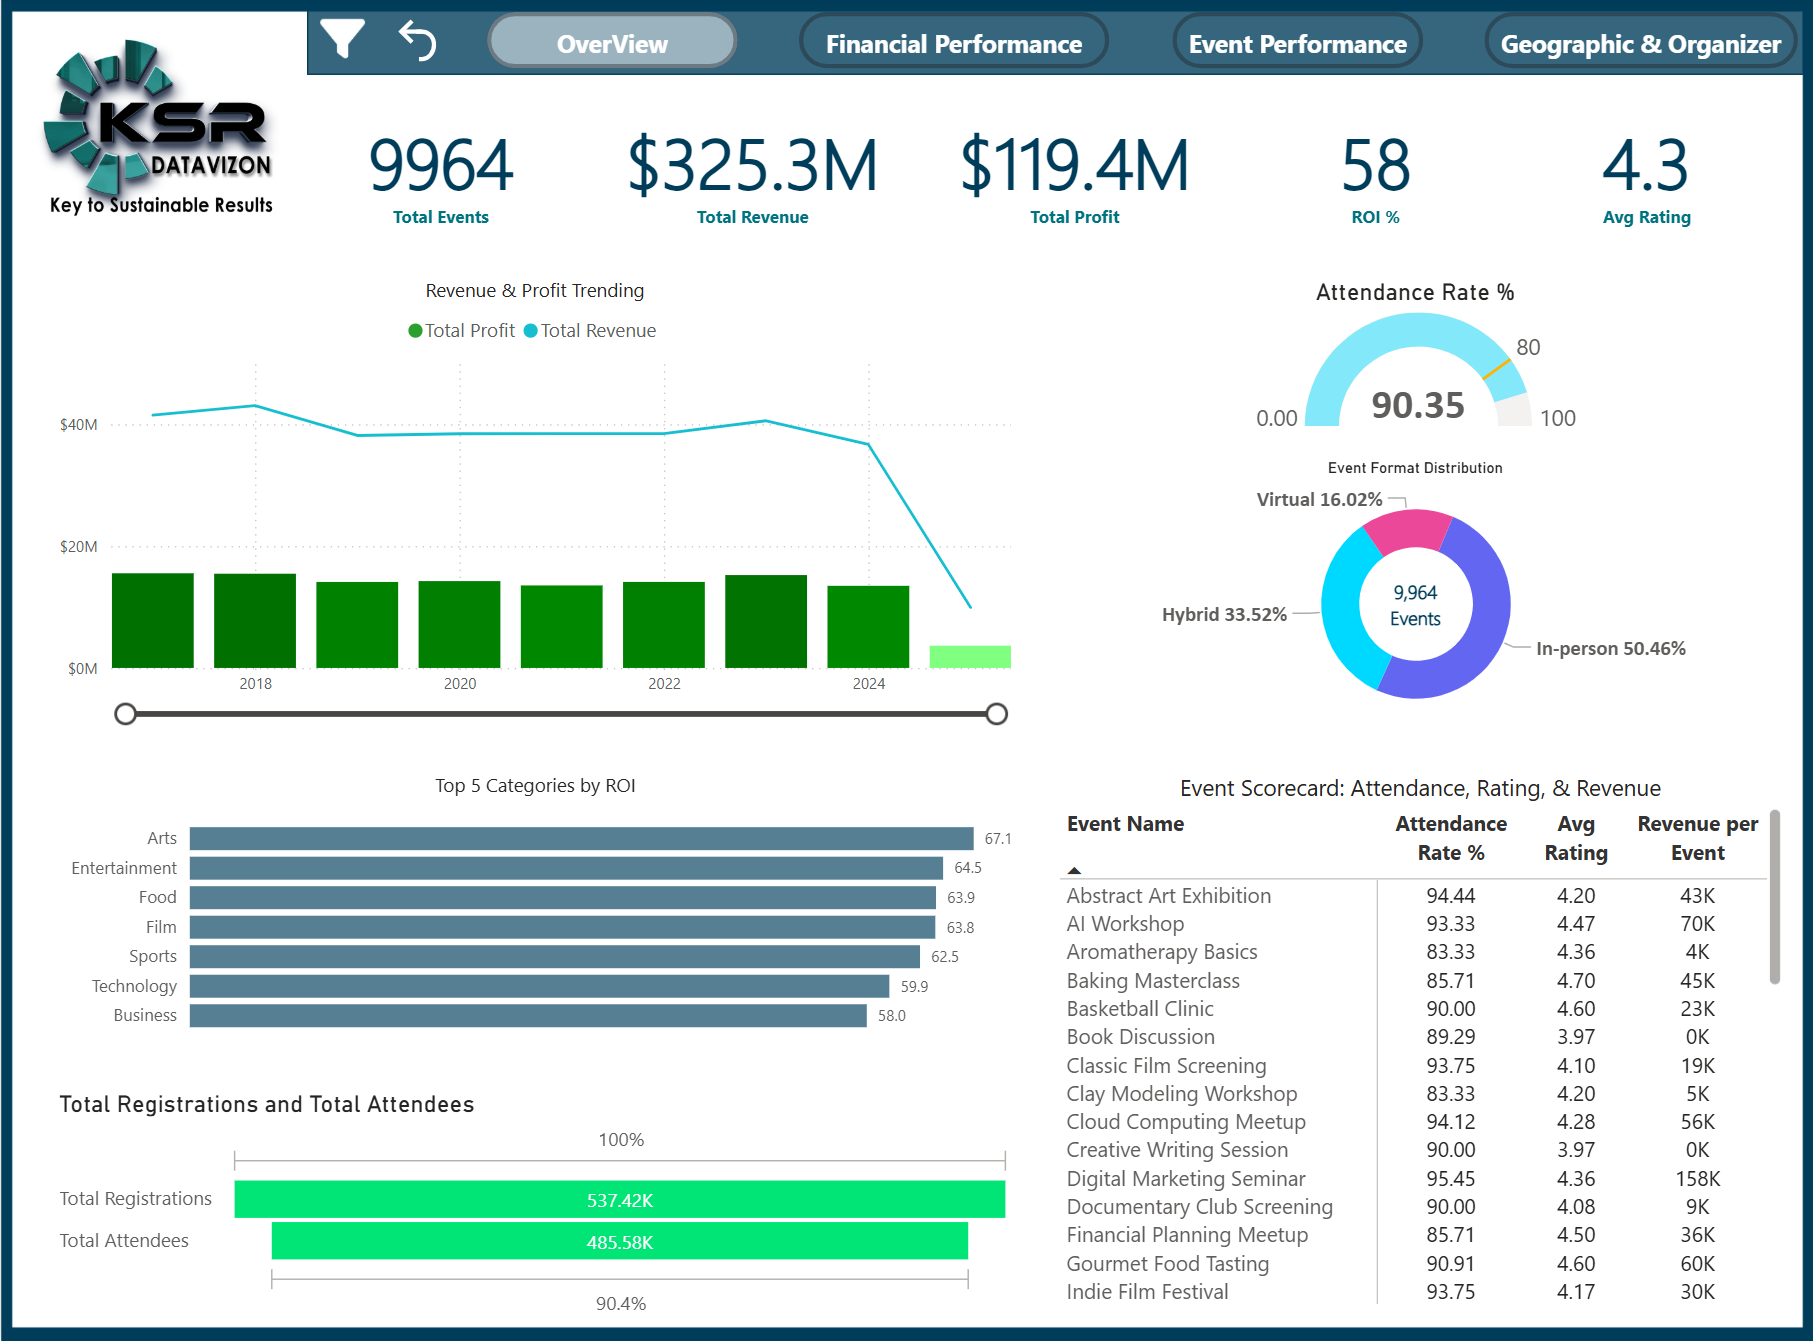

The page's visual inventory and layout, read from the dashboard file:
{"tool":"powerbi","page":{"name":"Portfolio Overview","canvas":[1280,950],"ordinal":0},"visuals":[{"type":"image","box":[7.9,6.8,208.9,170.3],"z":0},{"type":"shape","box":[215.6,6.3,1057.5,48.7],"z":1000},{"type":"card","fields":{"Values":["Measure Table.Total Events"]},"box":[217.6,67.6,186.4,110],"z":2000},{"type":"actionButton","title":"Filter","box":[222,9.9,46.9,39.7],"z":3000},{"type":"card","fields":{"Values":["Measure Table.Total Revenue"]},"box":[431.8,67.6,196.8,110],"z":4000},{"type":"card","fields":{"Values":["Measure Table.Total Profit"]},"box":[656.4,67.6,202.6,110],"z":5000},{"type":"card","fields":{"Values":["Measure Table.ROI %"]},"box":[886.8,67.6,167.9,110],"z":6000},{"type":"actionButton","box":[274.7,10.2,42.5,39.8],"z":7000},{"type":"actionButton","box":[342.9,11.1,177.1,39.7],"z":8000},{"type":"actionButton","box":[564,11.1,219.1,39.7],"z":9000},{"type":"actionButton","box":[827,11.1,177.1,39.7],"z":10000},{"type":"lineStackedColumnComboChart","title":"Revenue & Profit Trending","fields":{"Y":["Measure Table.Total Profit"],"Y2":["Measure Table.Total Revenue"],"Category":["AW_Calender.Start of Month.Variation.Date Hierarchy.Year","AW_Calender.Start of Month.Variation.Date Hierarchy.Month"]},"box":[36.2,197.5,682.4,320.5],"z":11000},{"type":"gauge","title":"Attendance Rate %","fields":{"Y":["Measure Table.Attendance Rate %"],"TargetValue":["Measure Table.Attendance Target"],"MaxValue":["Measure Table.Maximum Value"]},"box":[736.3,198,525.6,114.6],"z":12000},{"type":"clusteredBarChart","title":"Top 5 Categories by ROI ","fields":{"Category":["KSR_Category_dim.Category"],"Y":["Measure Table.Total Orders"]},"box":[35.8,546.2,683.1,194.4],"z":13000},{"type":"pivotTable","title":"Event Scorecard: Attendance, Rating, & Revenue","fields":{"Rows":["KSR_Events_Data_fct.Event Name"],"Values":["Measure Table.Attendance Rate %","Measure Table.Avg Rating","Measure Table.Revenue per Event"]},"box":[743.2,546.4,519.8,380.9],"z":14000},{"type":"funnel","fields":{"Y":["Measure Table.Total Registrations","Measure Table.Total Attendees"]},"box":[35.8,771.3,683.1,165],"z":15000},{"type":"card","fields":{"Values":["Measure Table.Avg Rating"]},"box":[1074.2,68.1,176,109],"z":17000},{"type":"donutChart","title":"Event Format Distribution","fields":{"Category":["KSR_Events_Data_fct.Event Format"],"Y":["Measure Table.Total Events"]},"box":[736.3,326.5,525.6,192.2],"z":18000},{"type":"card","fields":{"Values":["Measure Table.Total Events Count"]},"box":[947,399.7,103.3,59],"z":19000},{"type":"actionButton","box":[1048,11.1,221.4,39.7],"z":20000}]}

Visuals, with their boxes in screenshot pixels (x1, y1, x2, y2), scaled from the page's 1280x950 canvas onto the 1813x1341 screenshot:
image: pyautogui.locateOnScreen(11, 10, 307, 250)
shape: pyautogui.locateOnScreen(305, 9, 1803, 78)
card - Measure Table.Total Events: pyautogui.locateOnScreen(308, 95, 572, 251)
"Filter" actionButton: pyautogui.locateOnScreen(314, 14, 381, 70)
card - Measure Table.Total Revenue: pyautogui.locateOnScreen(612, 95, 890, 251)
card - Measure Table.Total Profit: pyautogui.locateOnScreen(930, 95, 1217, 251)
card - Measure Table.ROI %: pyautogui.locateOnScreen(1256, 95, 1494, 251)
actionButton: pyautogui.locateOnScreen(389, 14, 449, 71)
actionButton: pyautogui.locateOnScreen(486, 16, 737, 72)
actionButton: pyautogui.locateOnScreen(799, 16, 1109, 72)
actionButton: pyautogui.locateOnScreen(1171, 16, 1422, 72)
"Revenue & Profit Trending" lineStackedColumnComboChart: pyautogui.locateOnScreen(51, 279, 1018, 731)
"Attendance Rate %" gauge: pyautogui.locateOnScreen(1043, 279, 1787, 441)
"Top 5 Categories by ROI " clusteredBarChart: pyautogui.locateOnScreen(51, 771, 1018, 1045)
"Event Scorecard: Attendance, Rating, & Revenue" pivotTable: pyautogui.locateOnScreen(1053, 771, 1789, 1309)
funnel - Measure Table.Total Registrations x Measure Table.Total Attendees: pyautogui.locateOnScreen(51, 1089, 1018, 1322)
card - Measure Table.Avg Rating: pyautogui.locateOnScreen(1522, 96, 1771, 250)
"Event Format Distribution" donutChart: pyautogui.locateOnScreen(1043, 461, 1787, 732)
card - Measure Table.Total Events Count: pyautogui.locateOnScreen(1341, 564, 1488, 647)
actionButton: pyautogui.locateOnScreen(1484, 16, 1798, 72)
